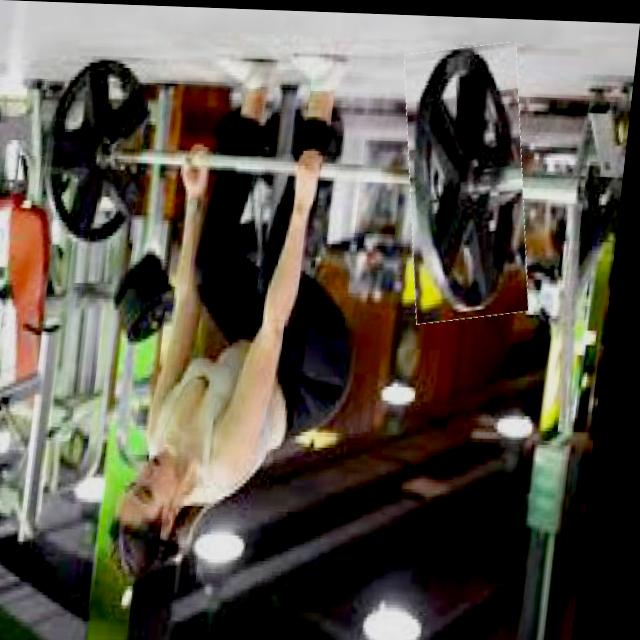barbell: (393, 40, 549, 322)
